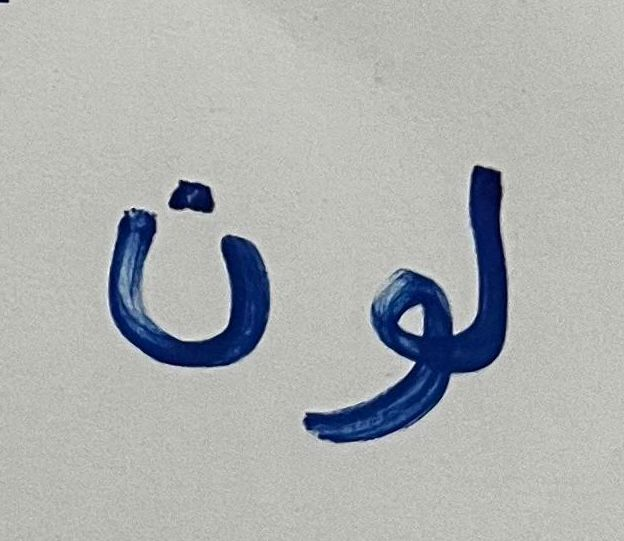lam: (457, 149, 549, 430)
noon: (89, 127, 288, 450)
waw: (295, 198, 453, 468)
